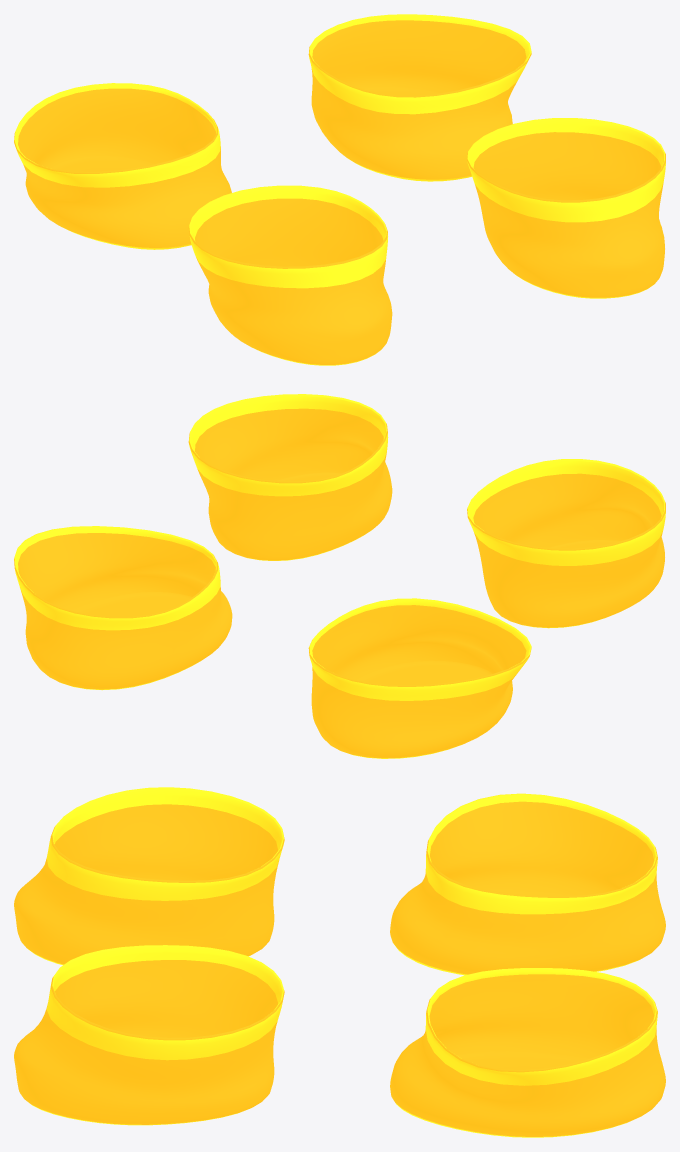
The model's file is santa_shoes.glb.
3 renders of one model, top to bottom at view 1: azimuth 30°, elevation 25°; view 2: azimuth 150°, elevation 25°; view 3: azimuth 270°, elevation 25°, orthographic. The views are drawn at different scales.
Visible parts, largest first — view 1: shoes; view 2: shoes; view 3: shoes.
Boxes of the visible parts, x1,y1,x2,y2 form: shoes: (14,14,665,365); shoes: (14,394,665,758); shoes: (14,787,665,1137).
Bounding box in the file's own units: 1.7 × 0.3167 × 1.69.
Materials: 1 (1 with a texture image).
